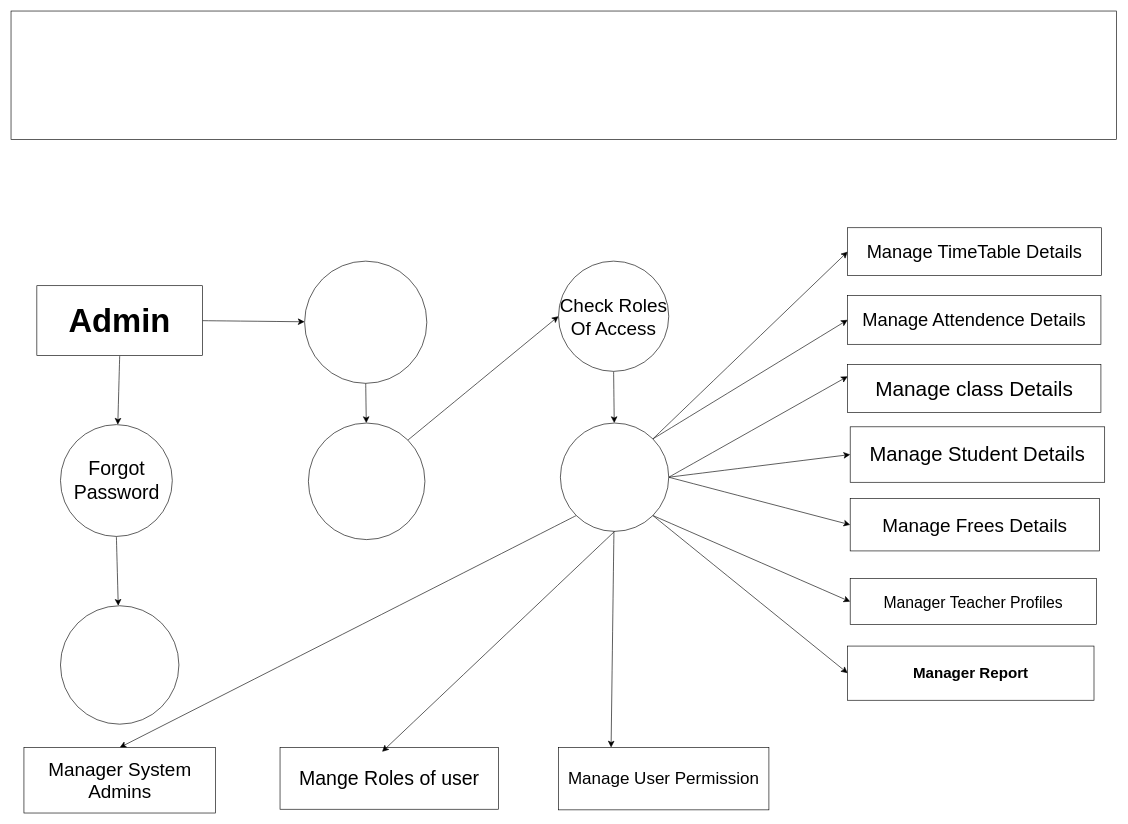
The diagram is 1128 pixels wide and 824 high, and some of its shapes have lost their labels. Each missing label, with the box of its shape:
Check Credentials: (308, 422, 425, 540)
Login to System: (304, 261, 427, 383)
Mange Modules: (560, 422, 669, 531)
Send Email tol user: (60, 605, 179, 724)
Student Information System: (10, 10, 1117, 140)
